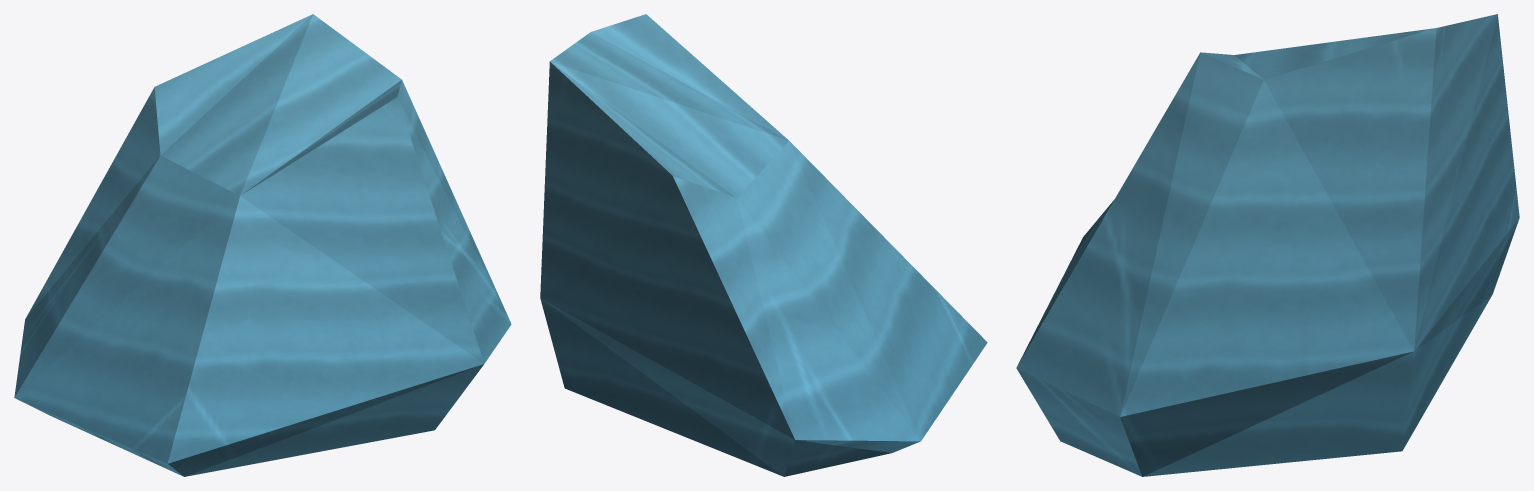
File: ice_blue_calved_block.glb
3 views of the same model, side by side, from view 1: azimuth 30°, elevation 25°; view 2: azimuth 150°, elevation 25°; view 3: azimuth 270°, elevation 25° (orthographic). The views are drawn at different scales.
Visible parts, largest first — view 1: ice_blue_calved_block; view 2: ice_blue_calved_block; view 3: ice_blue_calved_block.
Part boxes in pixels (x1=…): ice_blue_calved_block: x1=14, y1=14, x2=511, y2=476; ice_blue_calved_block: x1=540, y1=14, x2=987, y2=476; ice_blue_calved_block: x1=1016, y1=14, x2=1519, y2=476.
Size of the model in its own units: 1.79 by 1.32 by 1.42.
1 material, 1 textured.
